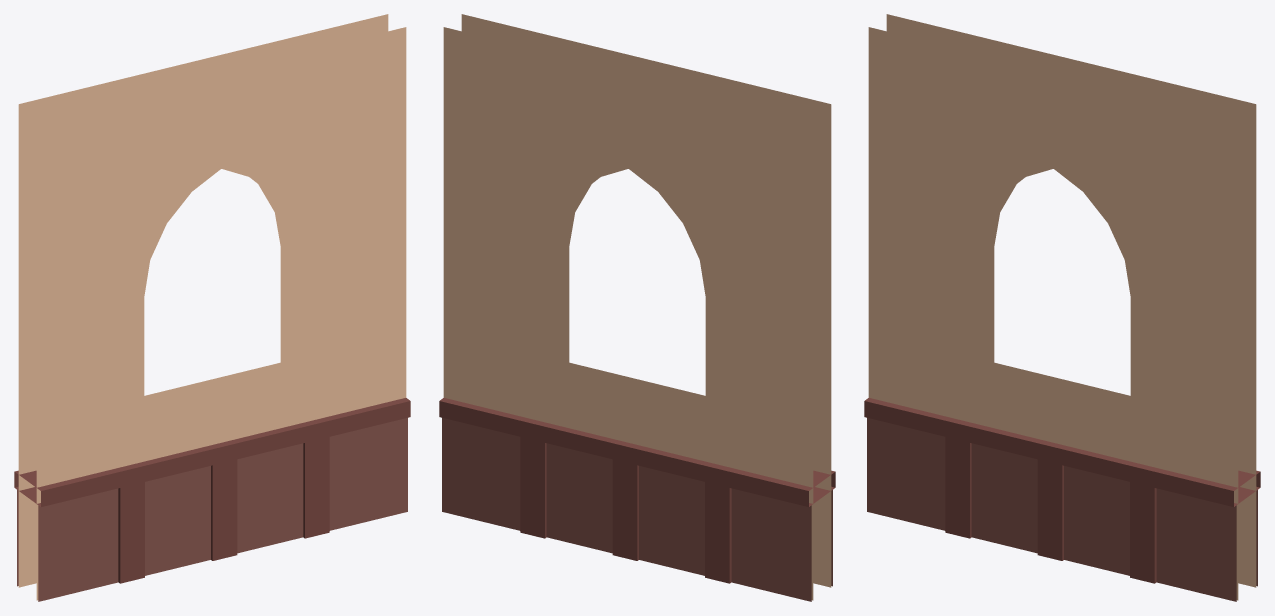
File: Wall_Window_2.fbx
3 renders of one model, left to right at view 1: azimuth 30°, elevation 25°; view 2: azimuth 150°, elevation 25°; view 3: azimuth 330°, elevation 25°, orthographic.
Visible parts, largest first — view 1: Wall_Window_2; view 2: Wall_Window_2; view 3: Wall_Window_2.
Boxes of the visible parts, bbox=[...] form: Wall_Window_2: bbox=[14, 14, 410, 601]; Wall_Window_2: bbox=[439, 14, 835, 601]; Wall_Window_2: bbox=[864, 14, 1260, 601].
Bounding box in the file's own units: 2.4 × 0.3 × 3.
